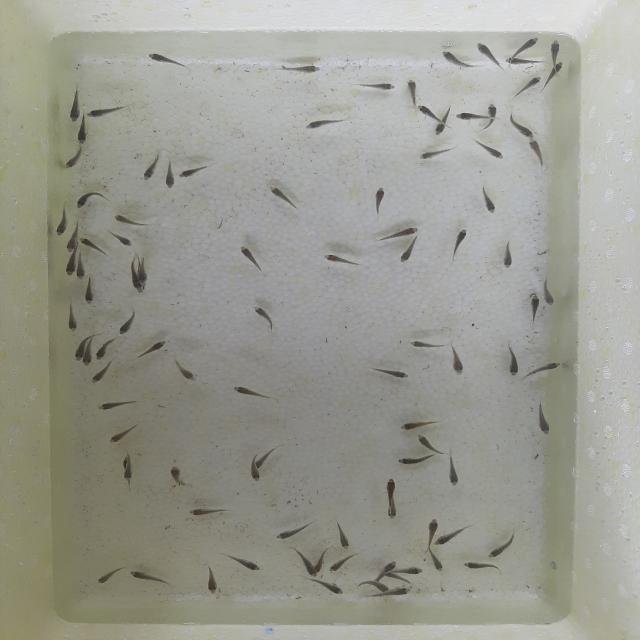fingerling: (142, 50, 198, 73), (231, 384, 281, 405), (162, 356, 199, 384), (364, 362, 410, 384), (506, 75, 542, 101), (444, 346, 472, 379), (373, 224, 419, 244), (316, 251, 359, 272), (237, 242, 267, 272), (266, 61, 322, 77), (219, 551, 263, 571), (530, 399, 552, 438), (474, 181, 499, 215), (469, 139, 511, 159), (93, 397, 142, 414), (414, 145, 459, 163), (365, 184, 391, 215), (396, 416, 446, 432), (175, 162, 217, 181), (524, 361, 566, 380), (266, 186, 302, 208), (136, 337, 167, 362), (329, 520, 354, 551), (432, 529, 474, 547), (253, 304, 277, 335), (431, 107, 454, 139), (302, 118, 348, 134), (441, 51, 476, 72), (542, 38, 568, 66), (94, 564, 124, 588), (130, 570, 174, 586), (272, 522, 311, 540), (75, 185, 104, 209), (506, 117, 534, 141), (459, 557, 498, 574), (84, 104, 128, 119), (448, 228, 470, 258), (109, 212, 153, 227), (63, 221, 83, 254), (527, 136, 548, 167), (106, 227, 137, 248), (118, 309, 139, 339), (393, 242, 418, 267), (476, 42, 499, 69), (294, 550, 316, 578), (488, 537, 517, 558), (139, 152, 159, 182), (125, 254, 141, 291), (64, 302, 82, 334), (87, 363, 112, 386), (184, 507, 228, 520), (505, 340, 520, 378), (63, 149, 87, 172), (170, 466, 194, 489), (79, 237, 108, 256), (162, 157, 179, 189), (307, 580, 345, 594), (202, 564, 218, 597), (501, 240, 517, 272), (246, 452, 262, 484), (54, 207, 69, 241), (456, 111, 498, 123), (108, 426, 135, 444), (352, 82, 400, 92), (327, 556, 355, 573), (82, 274, 97, 305), (548, 61, 564, 90), (484, 103, 500, 132), (542, 277, 558, 306), (428, 550, 448, 573), (408, 338, 446, 350), (514, 37, 538, 55), (526, 294, 542, 321), (96, 336, 114, 360), (82, 338, 96, 368), (414, 435, 436, 454), (414, 104, 440, 120), (396, 455, 433, 466), (404, 76, 419, 103), (448, 454, 460, 487), (68, 90, 80, 122), (74, 119, 88, 145), (394, 564, 424, 576), (381, 475, 396, 498), (386, 498, 401, 521), (504, 57, 542, 66), (257, 447, 276, 465), (73, 333, 84, 364), (74, 253, 86, 281), (383, 588, 413, 599), (62, 253, 74, 279), (354, 581, 388, 590), (138, 255, 147, 285), (378, 559, 397, 572), (427, 516, 438, 538), (315, 548, 325, 572), (386, 574, 410, 583), (123, 465, 135, 482)
